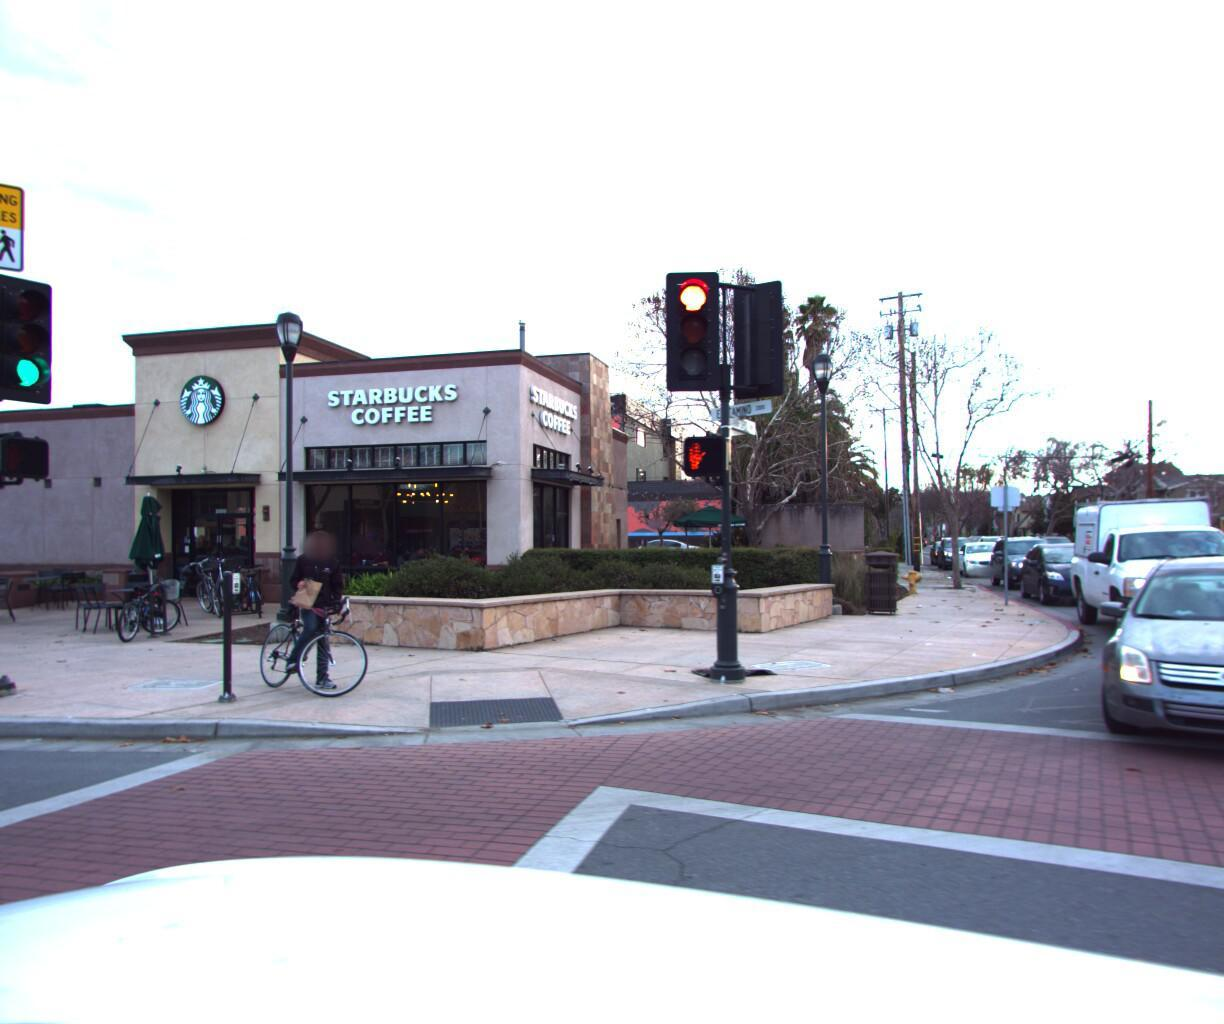bicycle: (223, 518, 386, 703), (100, 568, 197, 638), (270, 554, 322, 621), (191, 551, 229, 614), (240, 552, 274, 615)
car: (1077, 547, 1224, 796), (1011, 536, 1136, 601), (982, 526, 1070, 585), (953, 533, 1015, 573), (1218, 487, 1224, 646)
truck: (1049, 469, 1224, 653)
